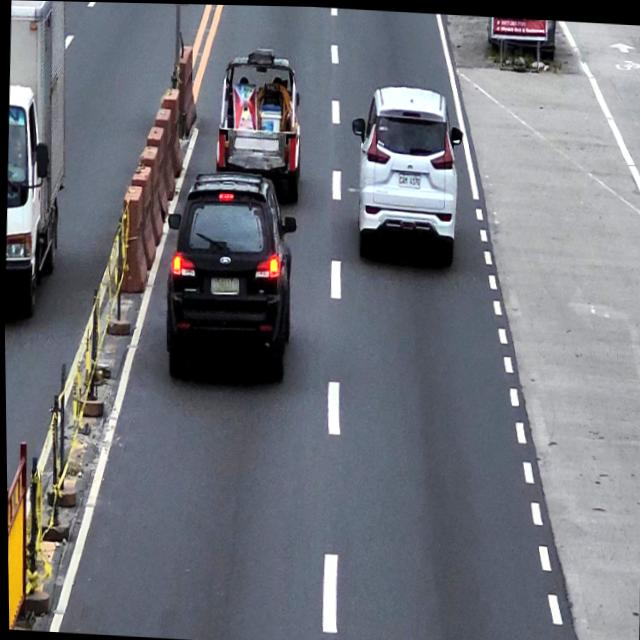Car: (160, 167, 301, 387), (345, 81, 466, 264), (212, 47, 305, 208)
License-Plate: (209, 274, 239, 294), (396, 170, 421, 187)
